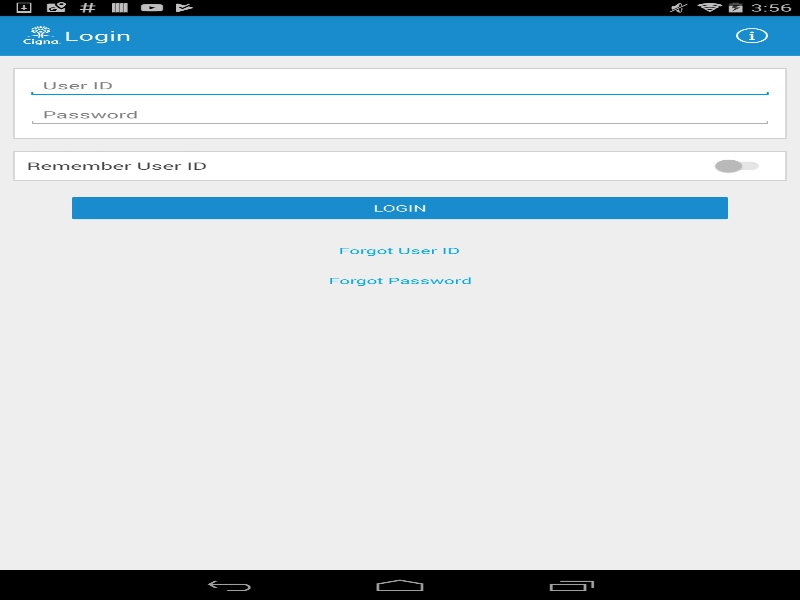Button: (66, 193, 733, 223), (312, 265, 488, 295), (322, 235, 476, 265)
Input: (26, 74, 773, 97), (26, 103, 773, 126)
